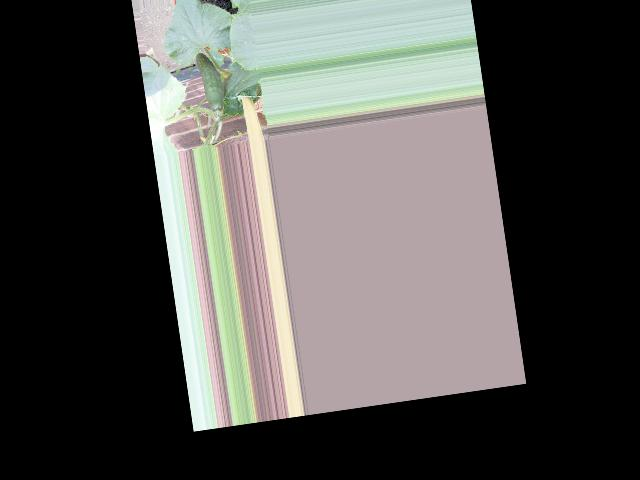cucumber: (194, 50, 226, 113)
